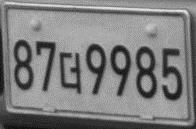5: (160, 47, 184, 101)
7: (34, 40, 58, 92)
8: (135, 45, 158, 99), (12, 39, 35, 90)
9: (85, 41, 108, 95), (109, 43, 132, 97)
더: (58, 50, 82, 95)
